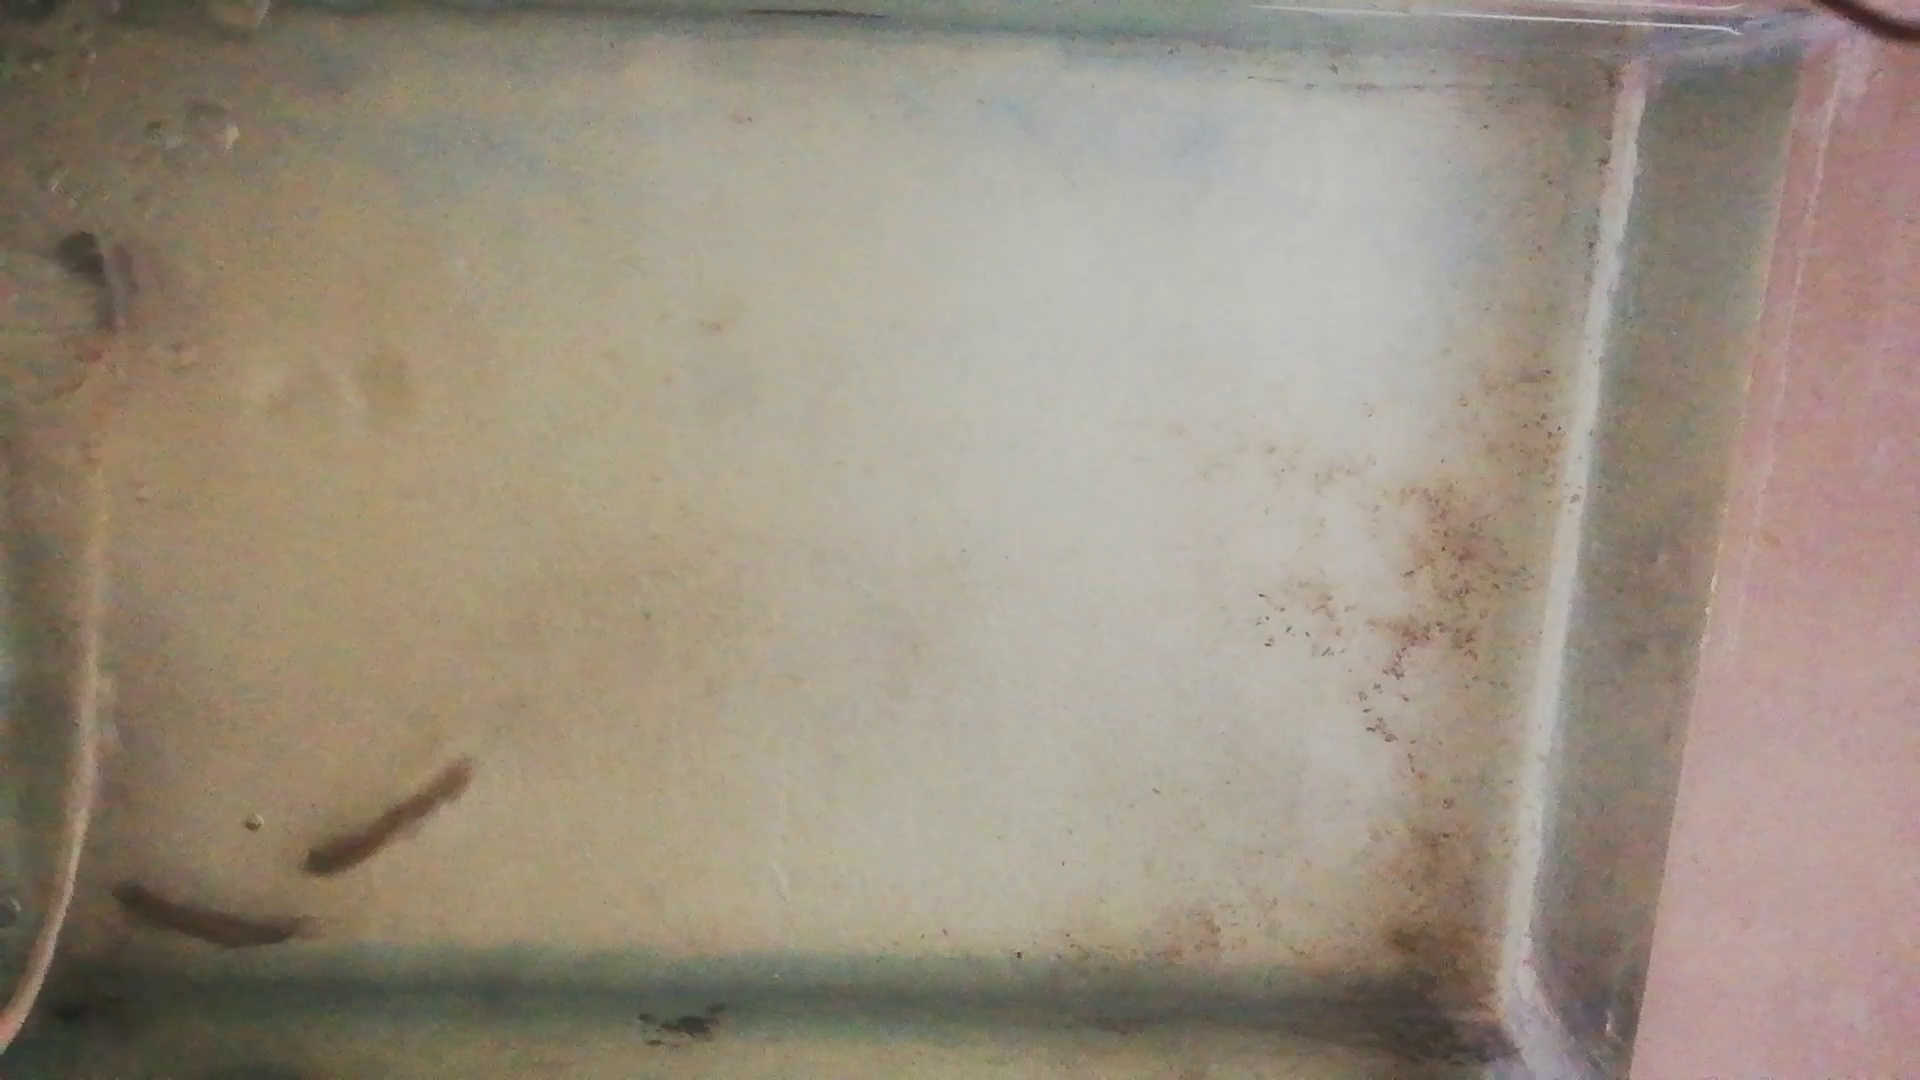fish: (301, 760, 472, 880), (103, 881, 309, 949)
